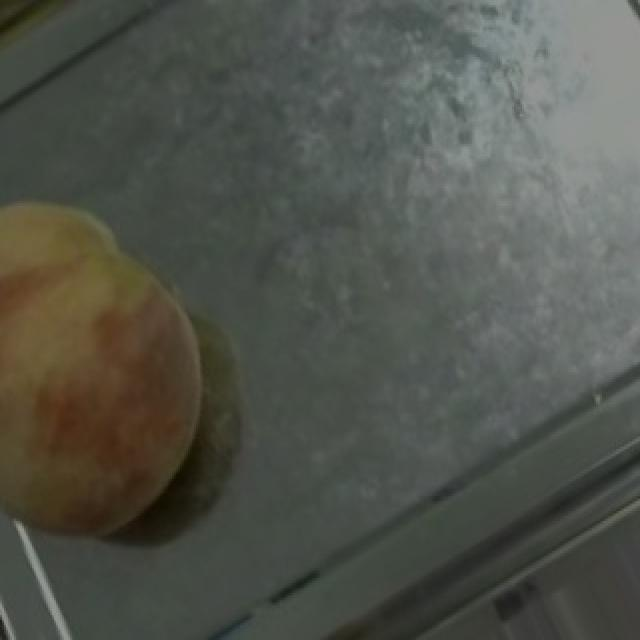Fruit: (0, 156, 252, 528)
